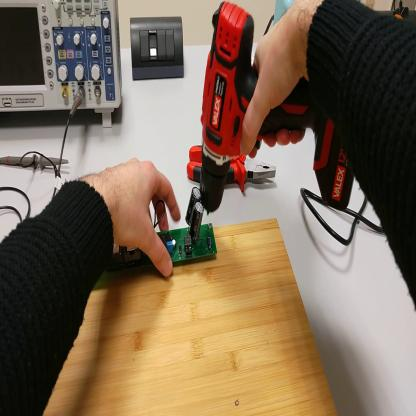electric screwdriver: (200, 3, 355, 219)
hand: (90, 158, 182, 281), (241, 4, 315, 152)
high voltage board: (103, 187, 218, 273)
oscilloscope: (2, 2, 123, 129)
oscilloscope probe tip: (1, 147, 69, 174)
pliers: (189, 149, 279, 192)
working area: (43, 219, 338, 415)
